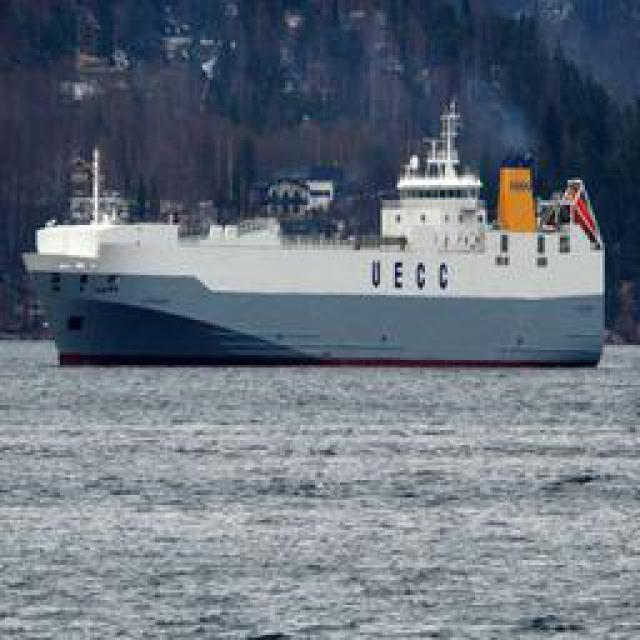Ship: (30, 137, 613, 367)
